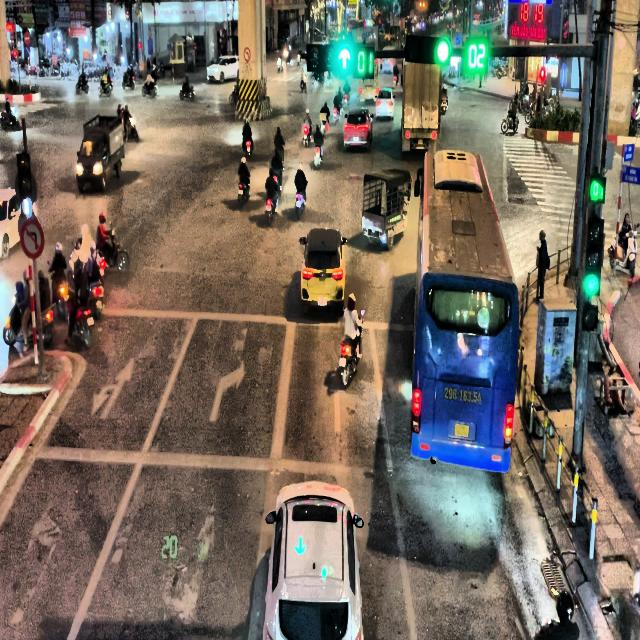BUS: (410, 148, 519, 473)
CAR: (262, 480, 364, 640), (299, 227, 348, 315), (343, 107, 373, 152), (206, 55, 239, 83), (375, 87, 395, 120)
MOTORBIKE: (3, 268, 54, 348), (338, 309, 364, 387), (100, 226, 129, 272), (265, 190, 279, 225), (0, 107, 18, 129), (501, 112, 519, 133), (238, 177, 250, 208), (295, 188, 306, 219), (142, 80, 158, 97), (179, 84, 195, 100), (122, 72, 135, 90), (99, 79, 112, 97), (243, 137, 253, 158), (75, 78, 88, 94), (313, 146, 322, 169), (303, 123, 311, 146)
